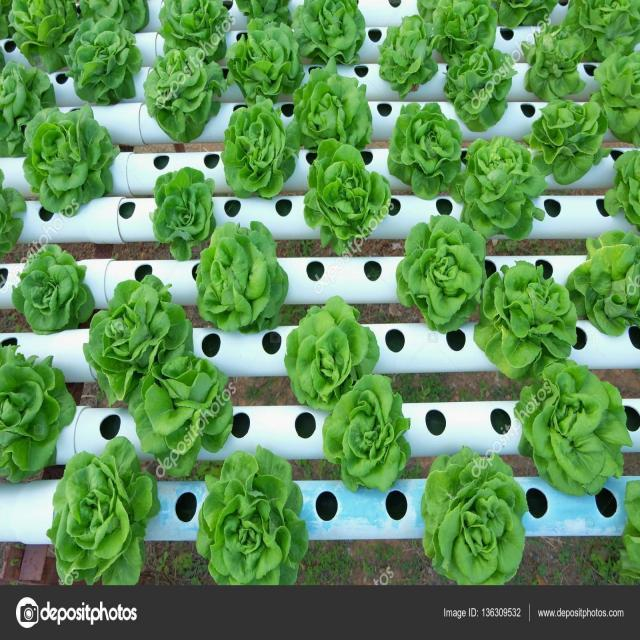Lettuce: (53, 438, 157, 594), (87, 280, 208, 408), (198, 450, 307, 587), (517, 362, 628, 495), (423, 448, 522, 588), (476, 258, 582, 384), (133, 352, 240, 472), (393, 217, 497, 340), (282, 295, 383, 413), (197, 218, 295, 332), (305, 137, 398, 255), (18, 107, 118, 215), (0, 345, 75, 482), (460, 135, 548, 245), (138, 42, 228, 148), (385, 95, 473, 202), (294, 53, 378, 165), (15, 240, 107, 338), (327, 382, 410, 490), (568, 224, 640, 341), (220, 95, 300, 200), (224, 12, 304, 113), (0, 58, 73, 166), (63, 13, 142, 108), (445, 40, 523, 133), (537, 93, 610, 190), (150, 168, 222, 262), (520, 23, 600, 105), (155, 1, 237, 76), (286, 0, 371, 71), (378, 8, 442, 97), (568, 0, 640, 73), (0, 0, 76, 68), (418, 0, 510, 55), (596, 45, 640, 151), (605, 147, 640, 228)
